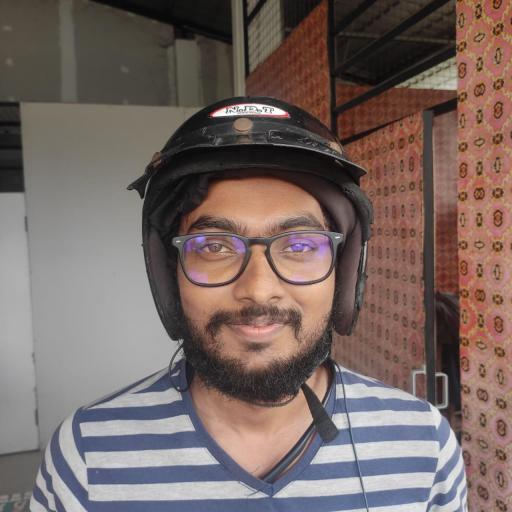with helmet: (126, 96, 374, 382)
